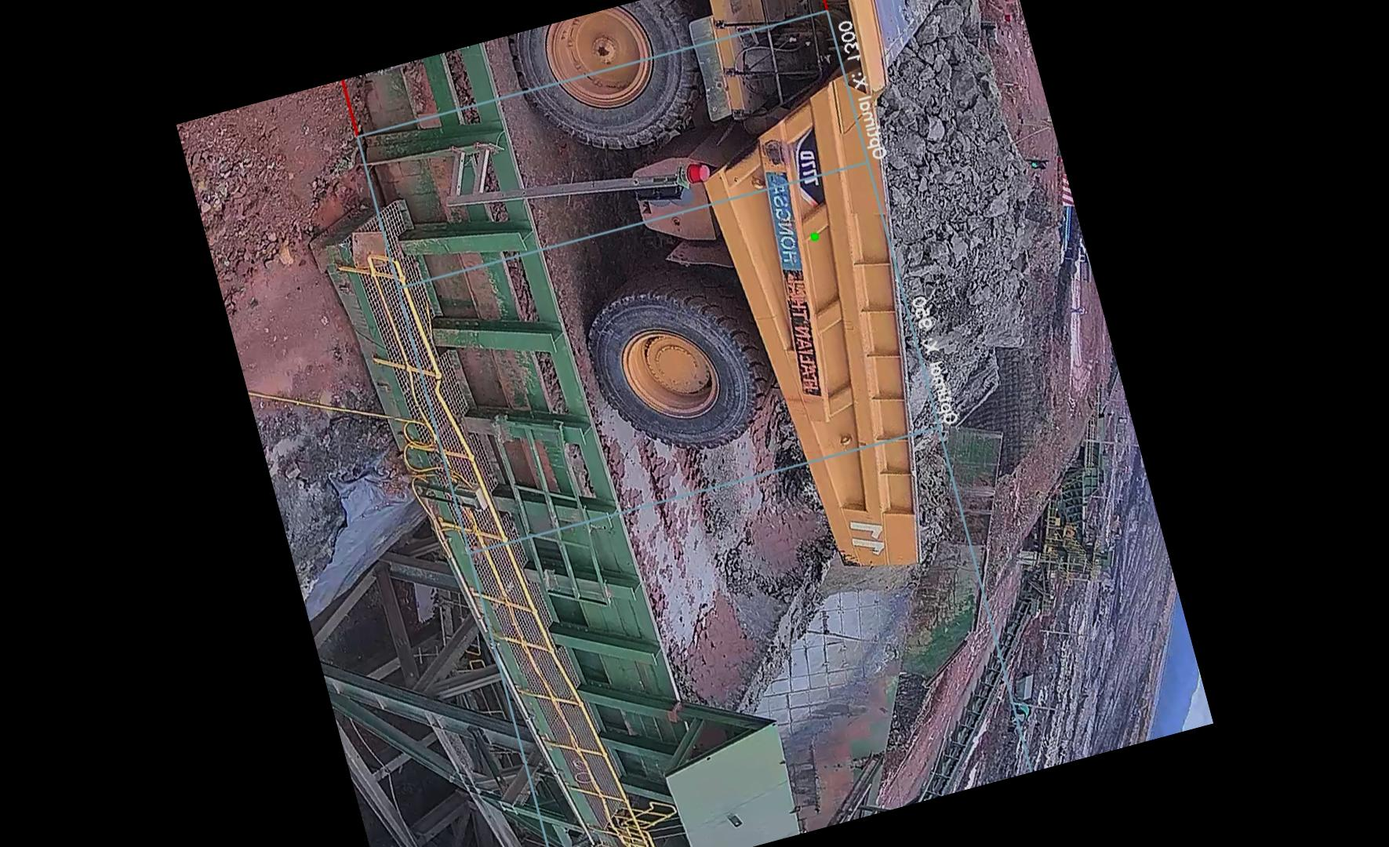company: (747, 161, 850, 409)
full_load: (825, 47, 1082, 402)
mining_truck: (502, 0, 1143, 642)
tail_number: (838, 507, 895, 565)
truck_size: (782, 123, 840, 207)
